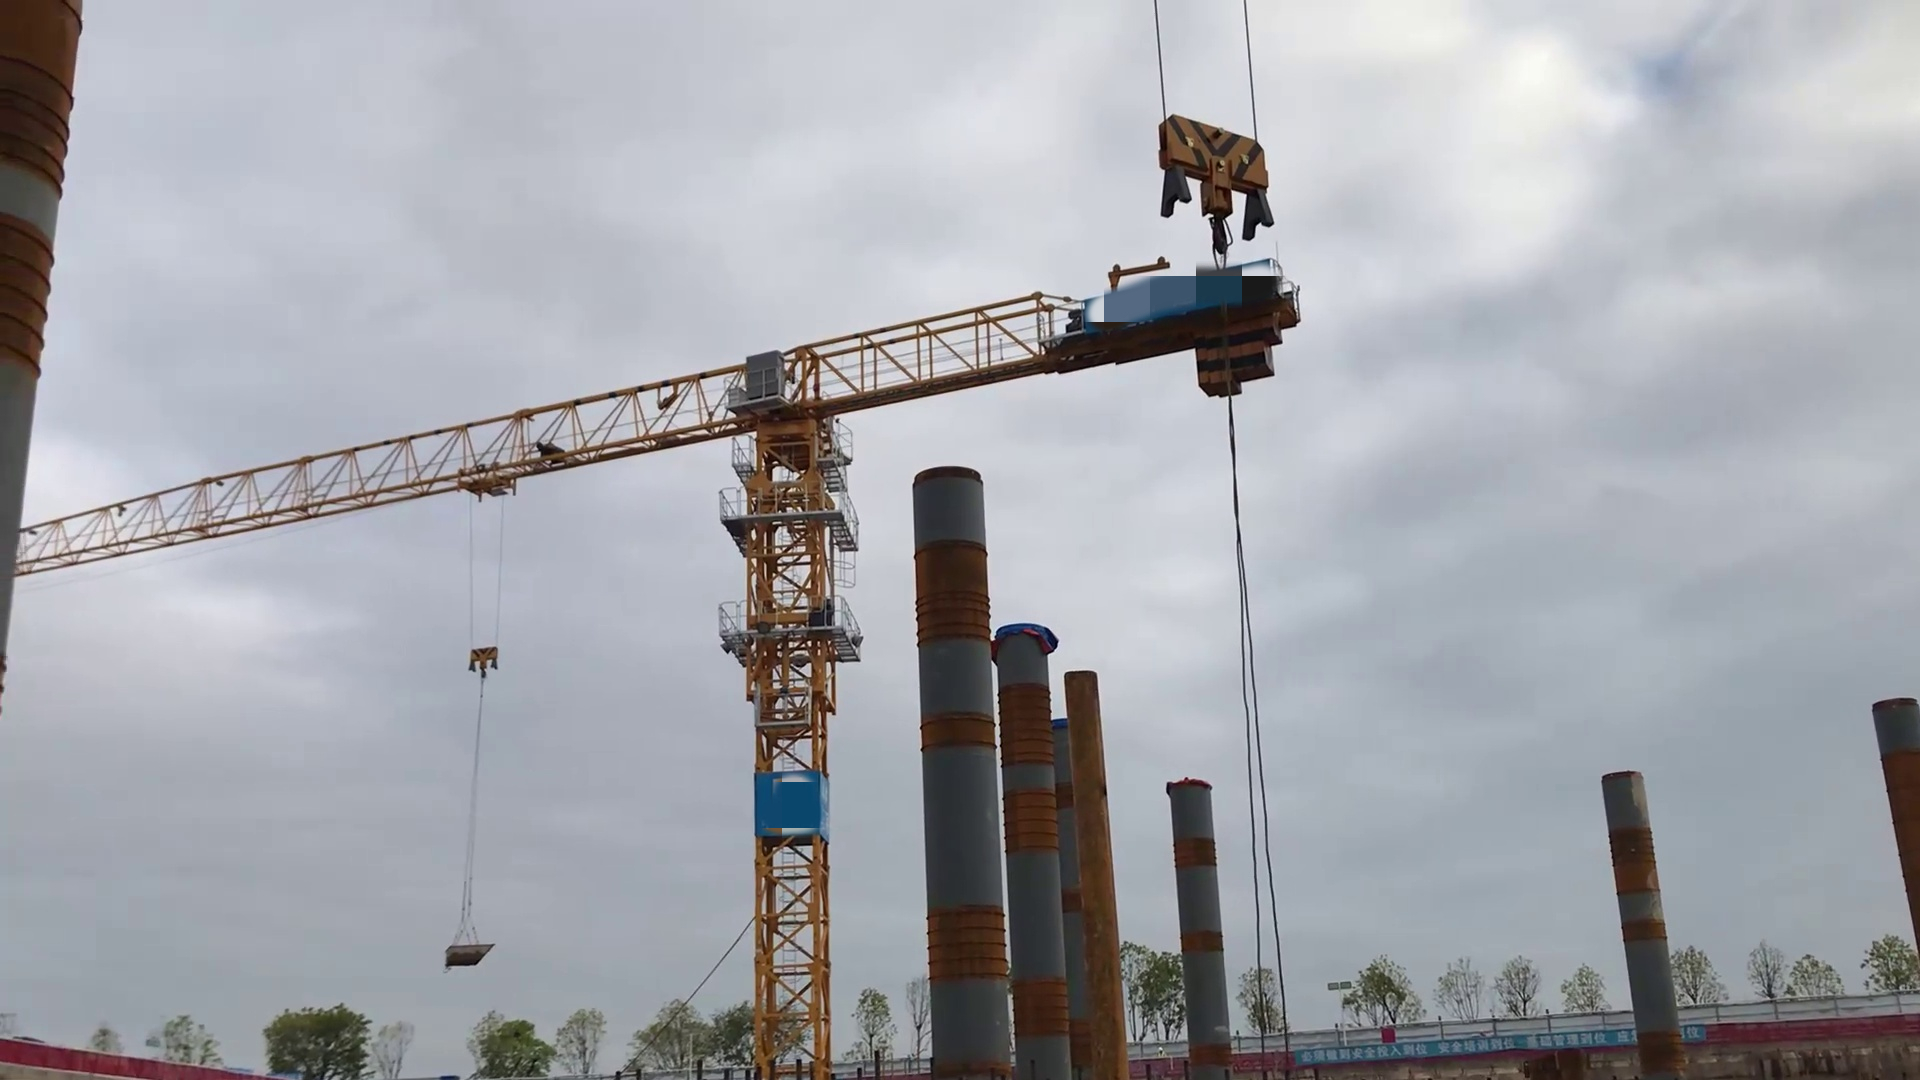hook: (1151, 105, 1284, 258), (465, 644, 502, 682)
slogan: (1295, 1025, 1706, 1065)
